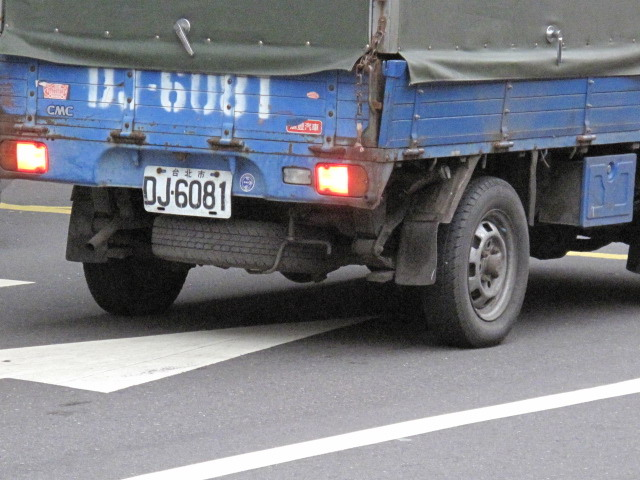plate: (141, 163, 234, 223)
